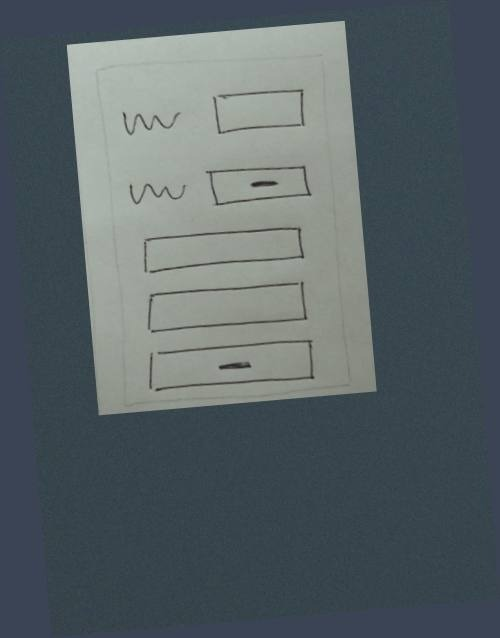button: (144, 335, 321, 397), (202, 156, 315, 212)
text: (117, 97, 185, 145), (125, 171, 192, 214)
text_input: (135, 217, 318, 282), (140, 275, 311, 340), (208, 82, 311, 144)
